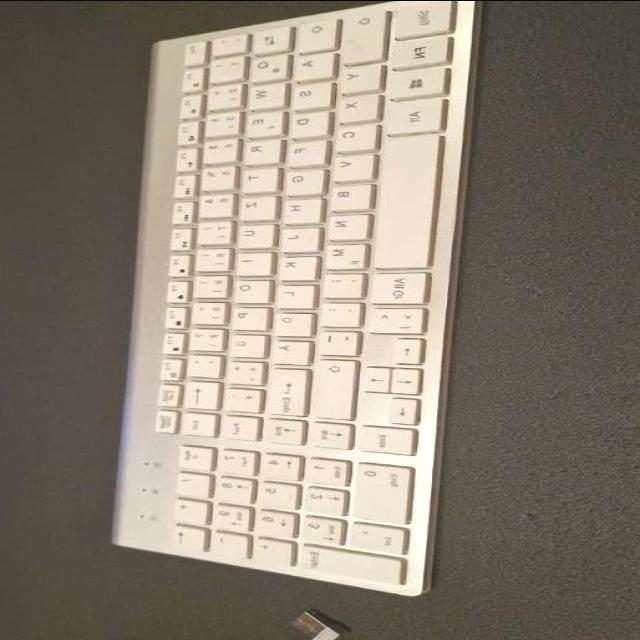0: (185, 298, 223, 322)
1: (204, 53, 242, 79)
2: (202, 80, 238, 106)
3: (200, 107, 236, 133)
4: (197, 135, 235, 160)
5: (196, 163, 232, 187)
6: (193, 190, 229, 215)
7: (192, 217, 228, 241)
8: (189, 244, 227, 269)
9: (188, 271, 226, 295)
a: (288, 49, 330, 77)
accent: (182, 351, 218, 374)
ae: (266, 336, 307, 362)
alt-left: (378, 94, 440, 132)
altgr-right: (363, 269, 425, 302)
b: (324, 180, 368, 208)
c: (329, 121, 374, 149)
caret: (207, 31, 245, 53)
comma: (316, 269, 360, 295)
d: (284, 108, 325, 134)
del: (178, 377, 214, 407)
e: (239, 108, 280, 134)
enter: (261, 365, 303, 414)
f: (282, 137, 323, 163)
g: (279, 166, 320, 192)
h: (277, 195, 318, 221)
hash: (218, 385, 258, 410)
i: (230, 249, 268, 273)
j: (275, 224, 316, 249)
k: (273, 252, 314, 277)
keyboard: (105, 0, 485, 599)
l: (270, 281, 311, 306)
less: (360, 303, 424, 331)
m: (319, 239, 364, 267)
minus: (311, 327, 356, 353)
n: (321, 210, 366, 236)
o: (229, 276, 267, 300)
oe: (269, 309, 309, 333)
p: (226, 303, 266, 327)
plus: (222, 357, 260, 382)
point: (314, 298, 358, 324)
q: (244, 50, 285, 78)
r: (237, 136, 278, 162)
s: (287, 79, 328, 105)
shift-left: (334, 8, 382, 61)
shift-lock: (292, 13, 334, 49)
shift-right: (305, 355, 351, 417)
space: (370, 133, 436, 266)
ss: (185, 324, 221, 348)
strg-left: (386, 0, 450, 36)
t: (236, 164, 274, 190)
tab: (247, 24, 287, 52)
u: (232, 220, 272, 245)
ue: (223, 331, 263, 355)
v: (326, 151, 370, 179)
w: (239, 80, 283, 106)
x: (331, 90, 375, 120)
y: (334, 61, 378, 89)
z: (235, 192, 273, 217)
